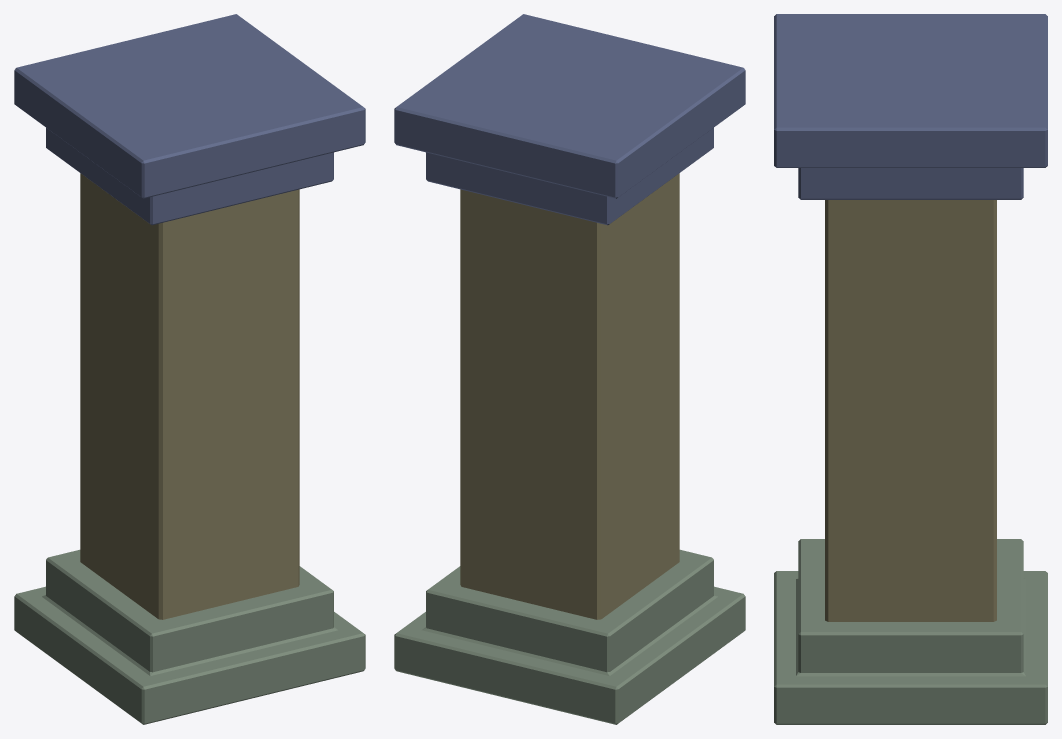
File: Pillar.fbx
3 views of the same model, side by side, from view 1: azimuth 30°, elevation 25°; view 2: azimuth 150°, elevation 25°; view 3: azimuth 270°, elevation 25° (orthographic). The views are drawn at different scales.
Visible parts, largest first — view 1: Pillar, PillarTop, PillarBase; view 2: Pillar, PillarTop, PillarBase; view 3: Pillar, PillarTop, PillarBase.
Boxes of the visible parts, x1,y1,x2,y2 form: Pillar: (80, 173, 299, 619); PillarTop: (14, 14, 365, 225); PillarBase: (14, 549, 365, 724); Pillar: (460, 173, 679, 619); PillarTop: (394, 14, 745, 225); PillarBase: (394, 549, 745, 724); Pillar: (825, 200, 996, 621); PillarTop: (774, 14, 1047, 199); PillarBase: (774, 539, 1047, 724).
Bounding box in the file's own units: 92.59 × 223 × 92.59.
